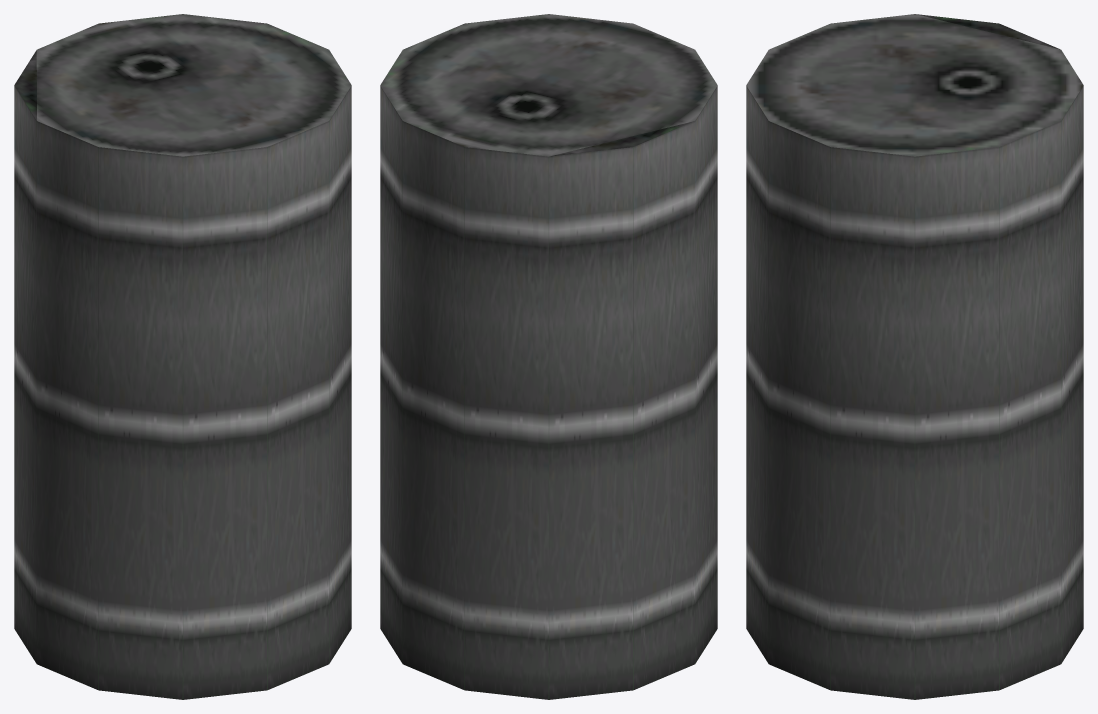
Rendered from OilDrum.glb.
3 views of the same model, side by side, from view 1: azimuth 30°, elevation 25°; view 2: azimuth 150°, elevation 25°; view 3: azimuth 270°, elevation 25° (orthographic).
Visible parts, largest first — view 1: OILDRUM; view 2: OILDRUM; view 3: OILDRUM.
Boxes of the visible parts, x1=… form: OILDRUM: x1=14, y1=14, x2=351, y2=699; OILDRUM: x1=380, y1=14, x2=717, y2=699; OILDRUM: x1=746, y1=14, x2=1083, y2=699.
Bounding box in the file's own units: 0.688 × 1.22 × 0.688.
Materials: 1 (1 with a texture image).
